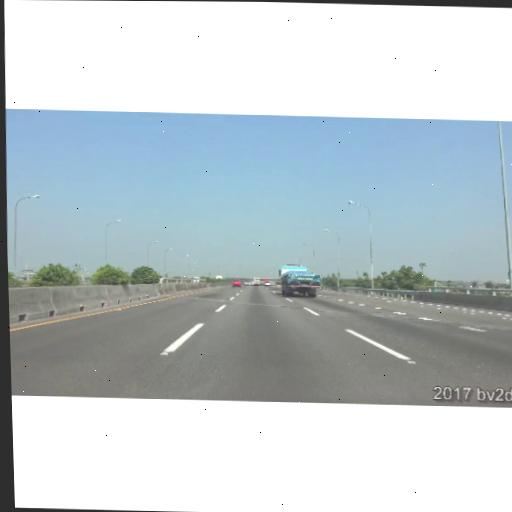Car: (279, 264, 322, 298), (232, 278, 242, 286), (254, 277, 260, 286), (265, 281, 271, 286), (243, 280, 248, 285)
